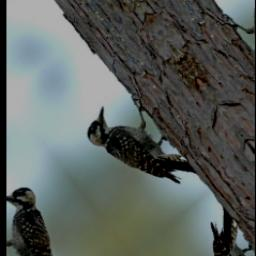Woodpecker: (77, 79, 204, 219)
